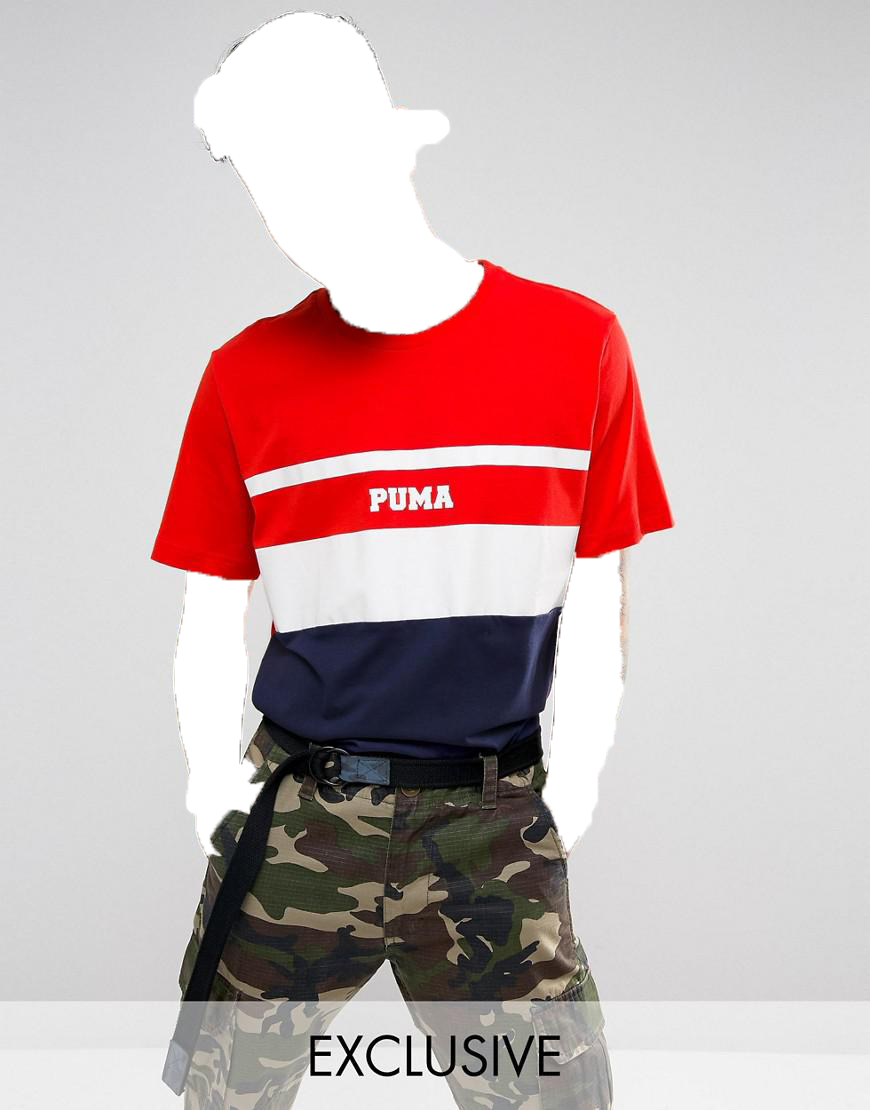teeshirt: (124, 257, 678, 791)
